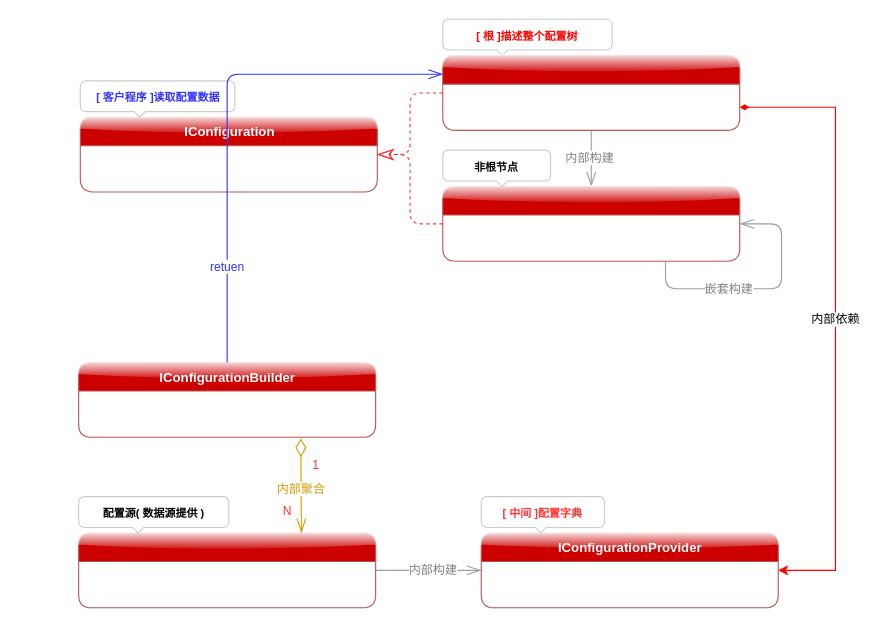
The diagram is 878 pixels wide and 627 high, and some of its shapes have lost their labels. Each missing label, with the box of its shape:
IConfigurationRoot: (442, 54, 740, 130)
IConfigurationSection: (442, 185, 740, 261)
IConfigurationSource: (78, 532, 376, 608)
